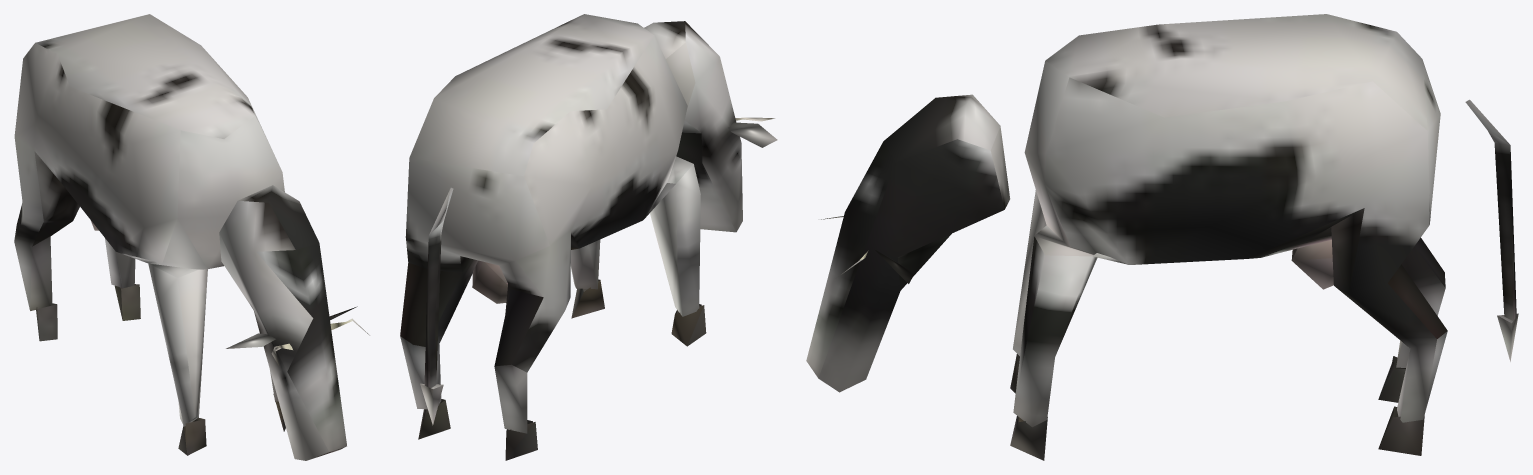
Rendered from cow-grazing-lod1.glb.
3 views of the same model, side by side, from view 1: azimuth 30°, elevation 25°; view 2: azimuth 150°, elevation 25°; view 3: azimuth 270°, elevation 25° (orthographic). The views are drawn at different scales.
Visible parts, largest first — view 1: cow-grazing-body.001; view 2: cow-grazing-body.001; view 3: cow-grazing-body.001.
Part boxes in pixels (x1,y1,x2,y2): cow-grazing-body.001: (14, 14, 369, 460); cow-grazing-body.001: (400, 14, 777, 460); cow-grazing-body.001: (806, 14, 1518, 460).
Size of the model in its own units: 0.7378 by 1.37 by 2.31.
1 material, 1 textured.
